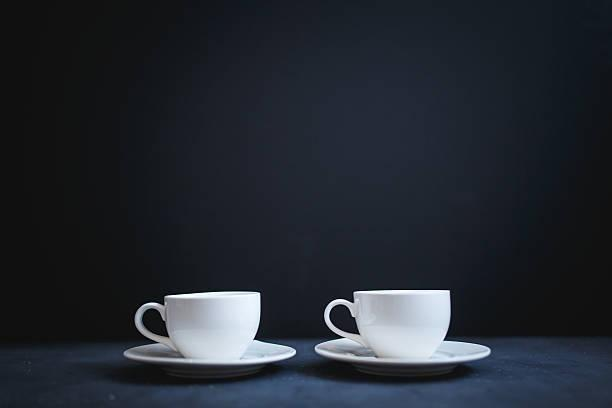cup-handle: (323, 287, 453, 360), (134, 289, 263, 361)
